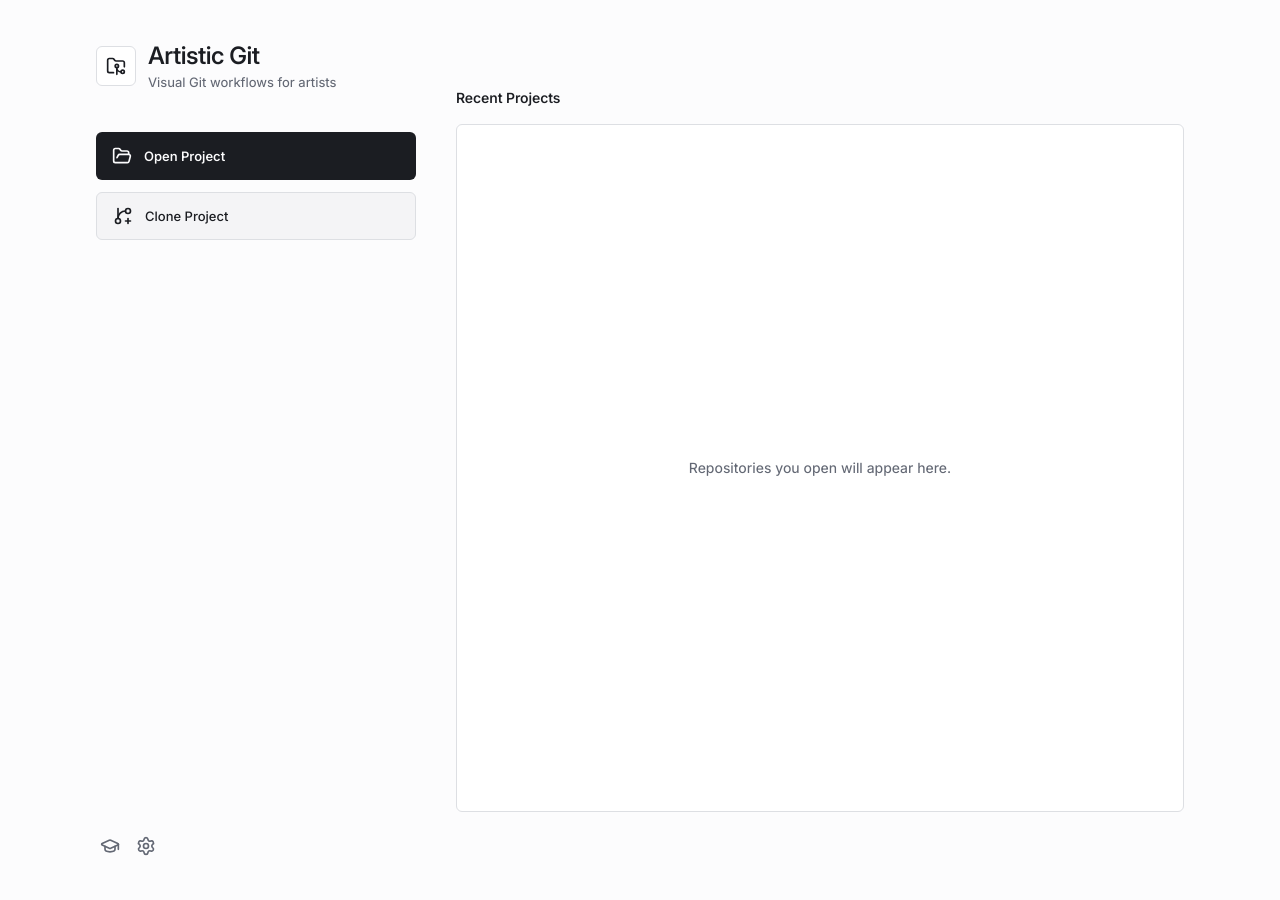
Test: StartScreen clone flow › infers the directory name and opens the cloned repository
Click the button "Clone Project" at [187, 216], box left=96, top=192, right=416, bottom=240
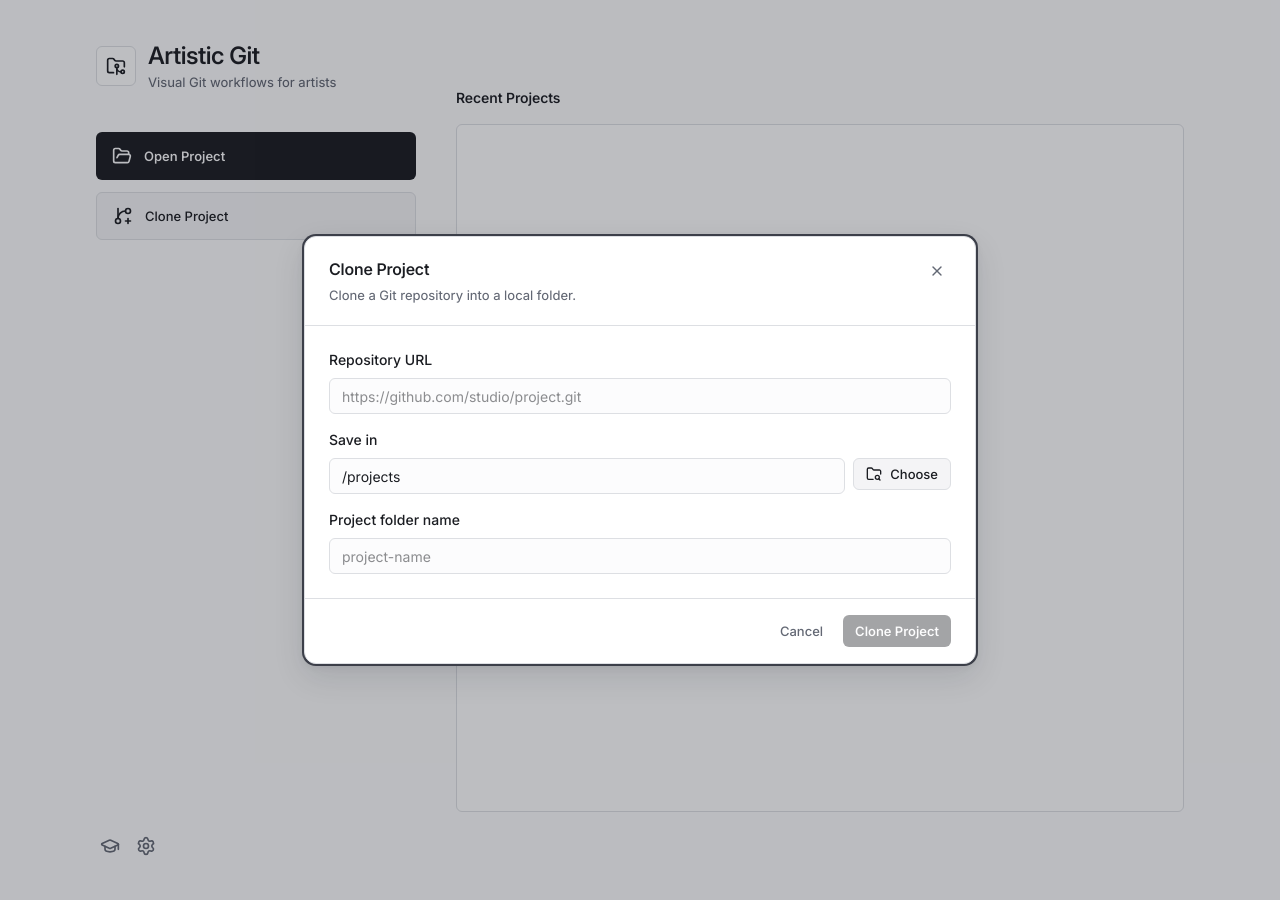
Type "https://github.com/studio/art-project.git" into the field labelled "Repository URL" at [640, 396], box left=329, top=378, right=951, bottom=414
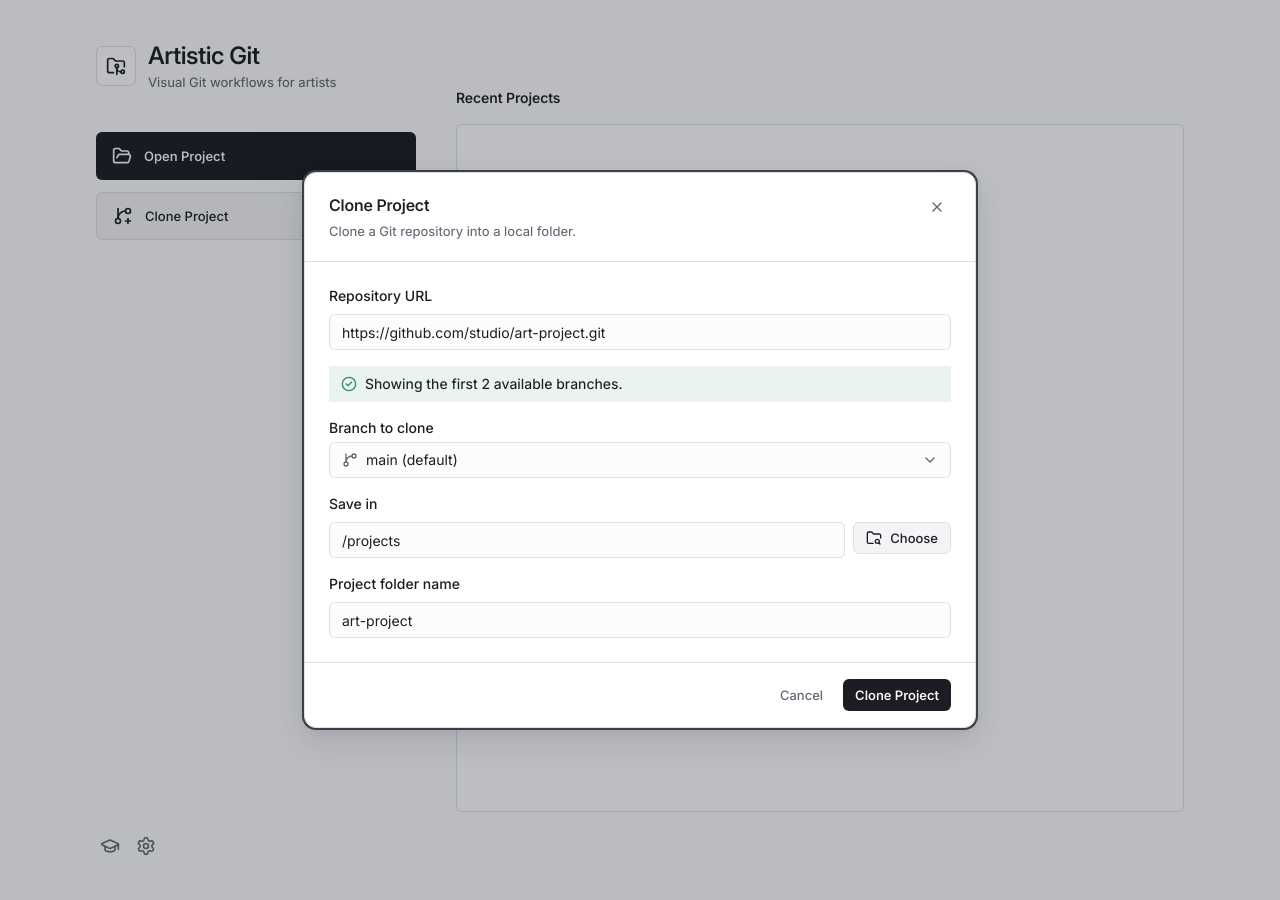
Now the text "Checking repository and branches..." is shown, box left=329, top=366, right=951, bottom=402
Now the dropdown named "Branch to clone" is shown
Now the field labelled "Project folder name" holds "art-project", box left=329, top=602, right=951, bottom=638
Click the dropdown named "Branch to clone" at [412, 460], box left=329, top=442, right=951, bottom=478
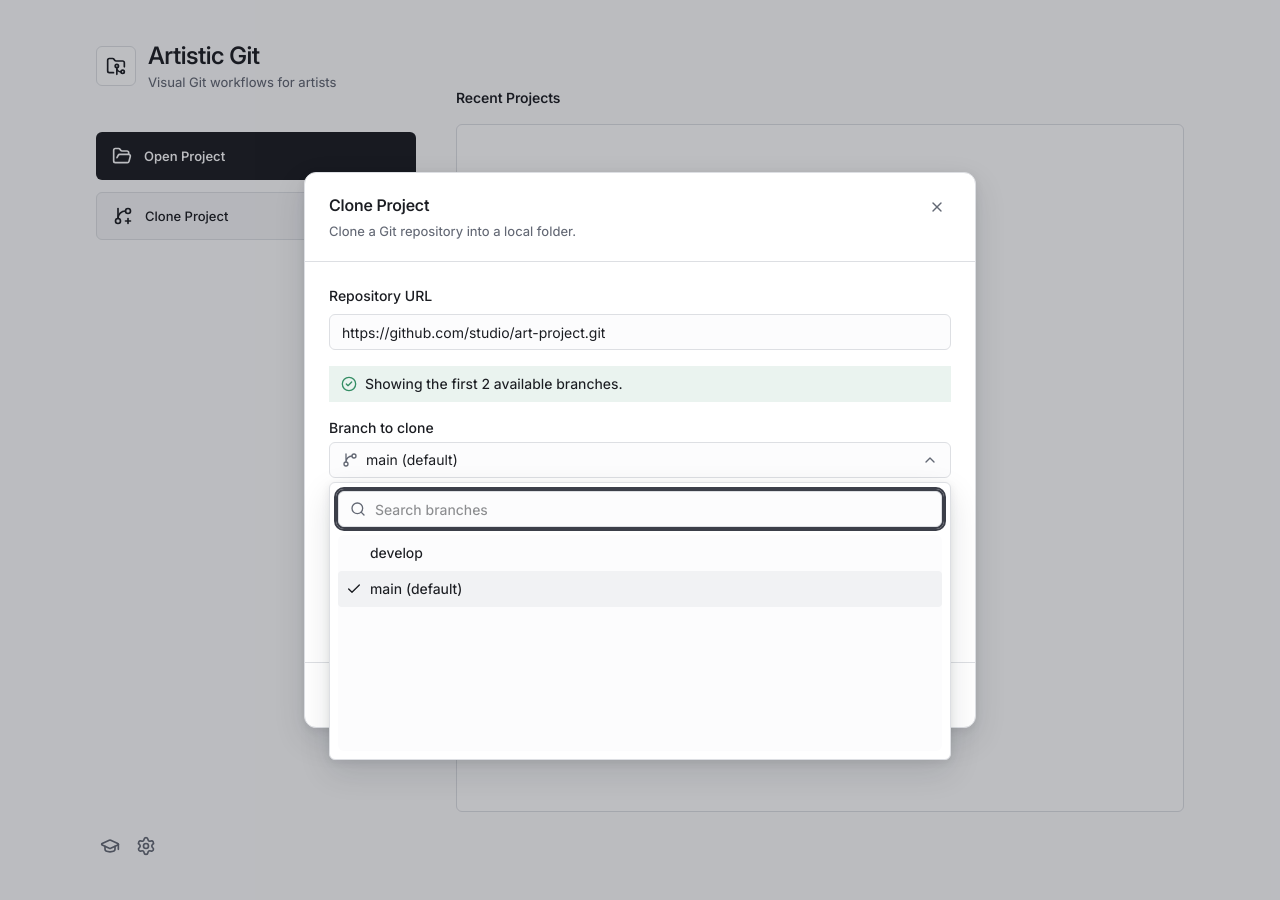
Type "develop" into the search field labelled "Search branches" at [640, 509], box left=338, top=491, right=942, bottom=527
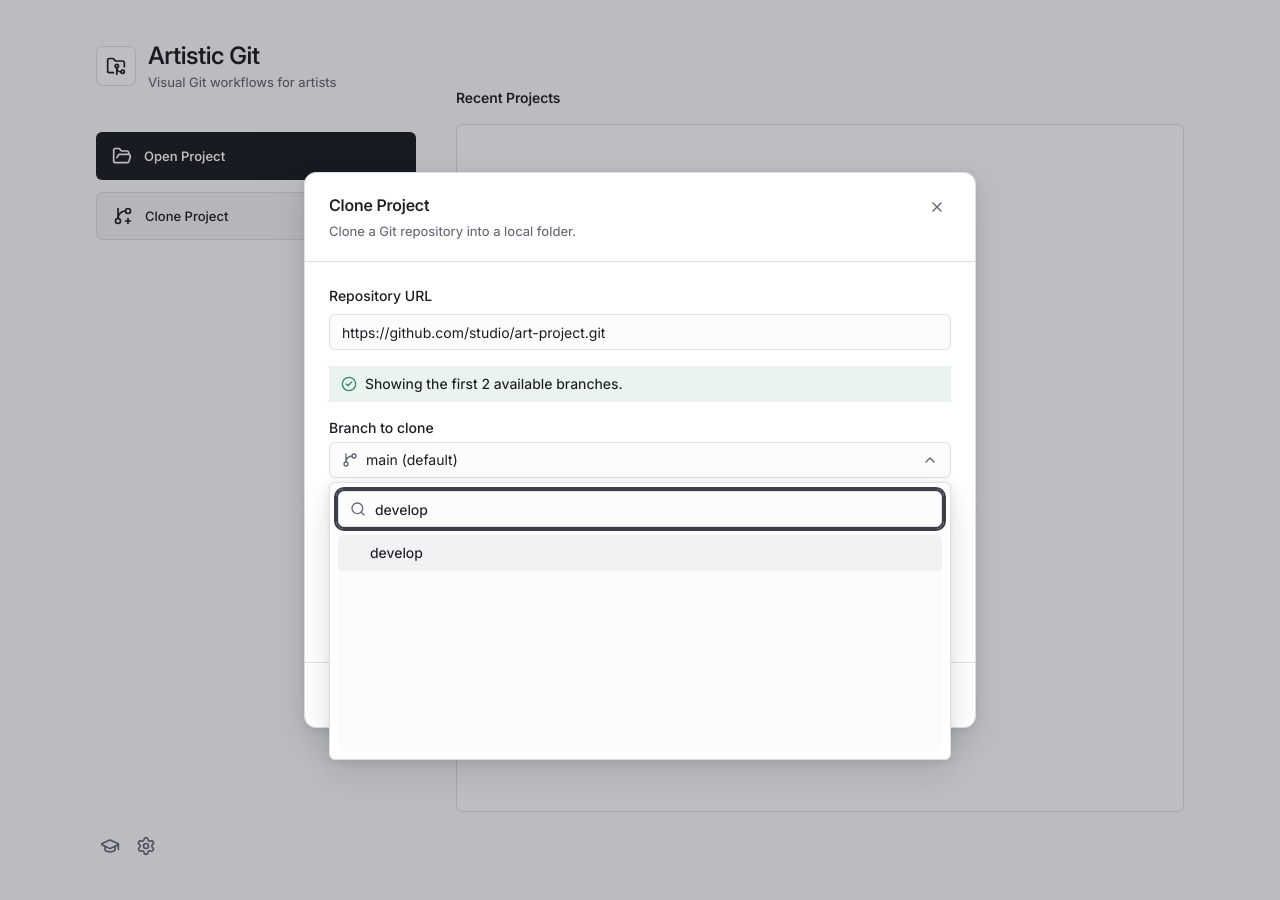
Click the option "develop" at [396, 552], box left=338, top=535, right=942, bottom=571
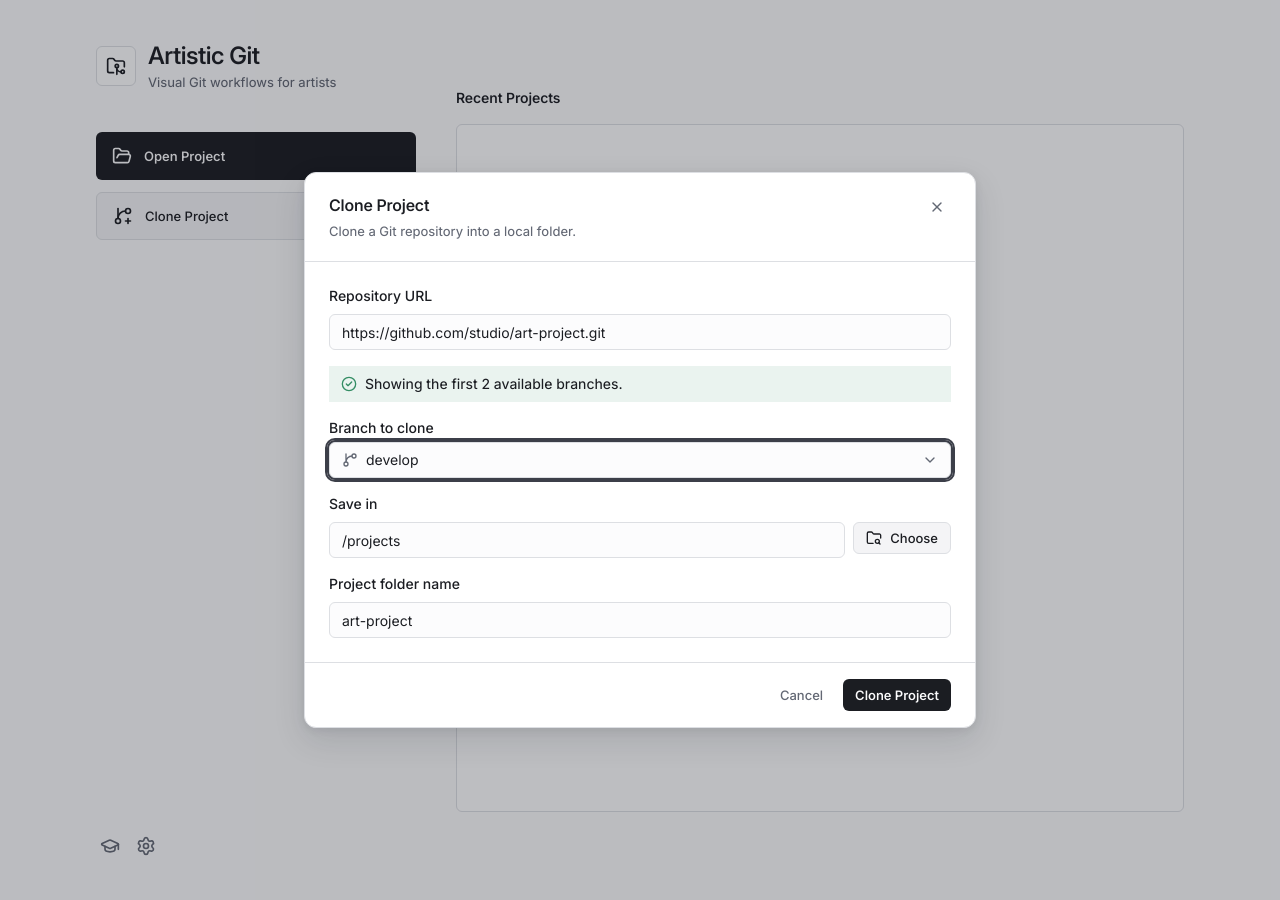
Click the button "Clone Project" at [897, 695], box left=843, top=679, right=951, bottom=711
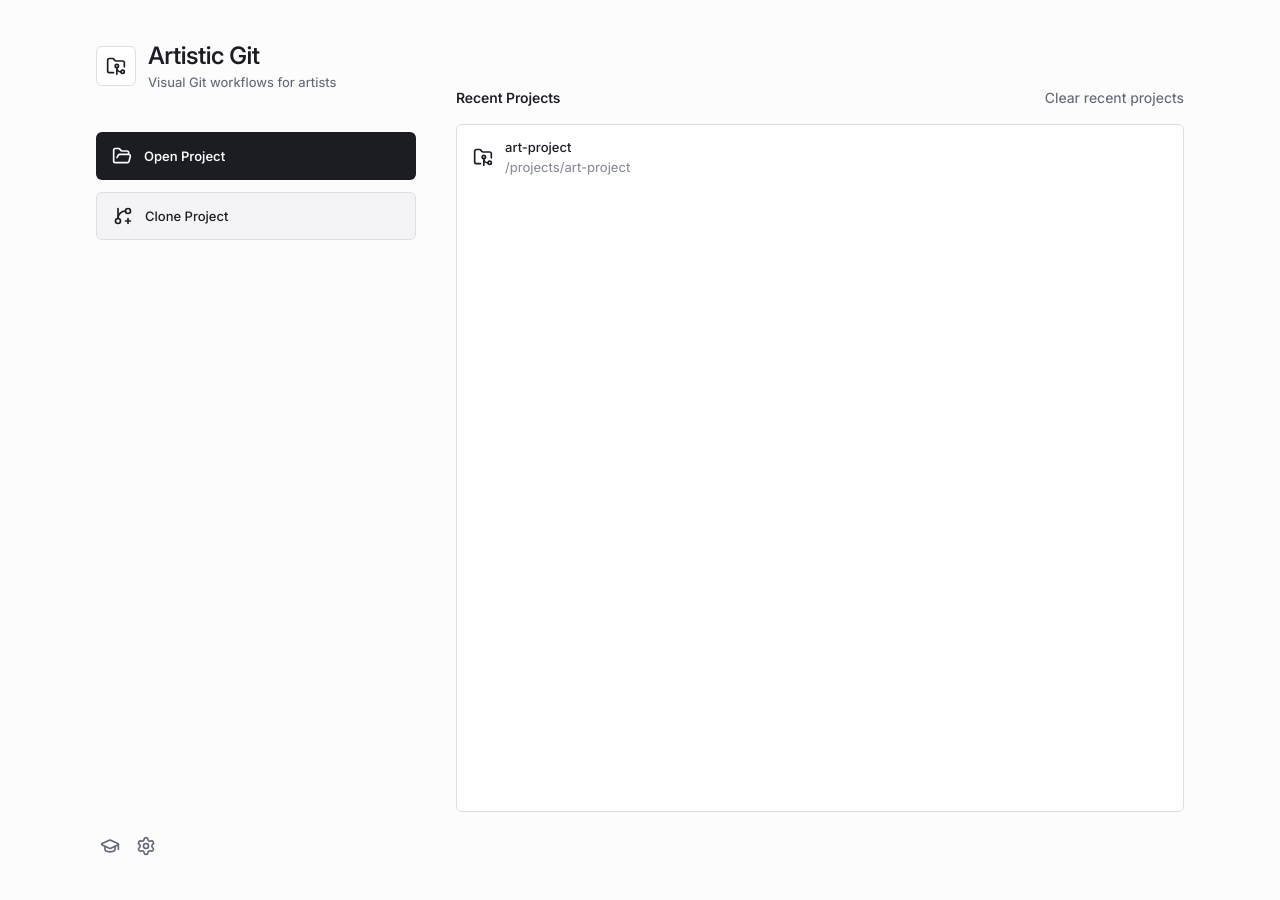
Now the text "/projects/art-project" is shown, box left=505, top=159, right=630, bottom=175
